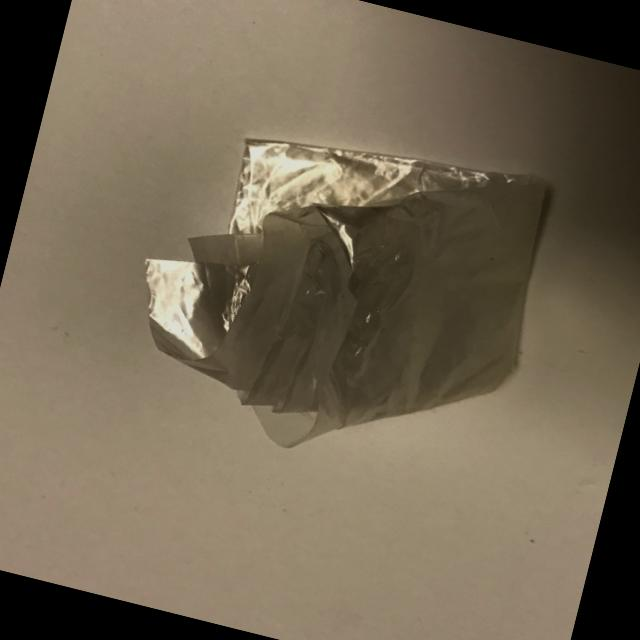Plastic: (82, 70, 586, 514)
